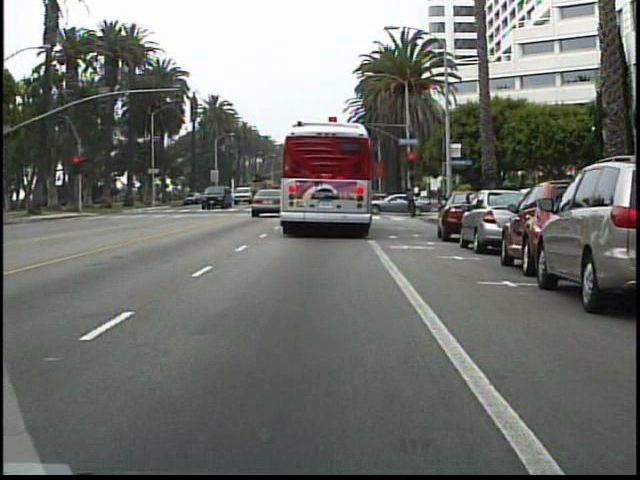person: (401, 184, 420, 217)
